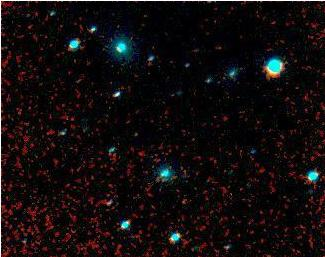star: (167, 188, 197, 218)
